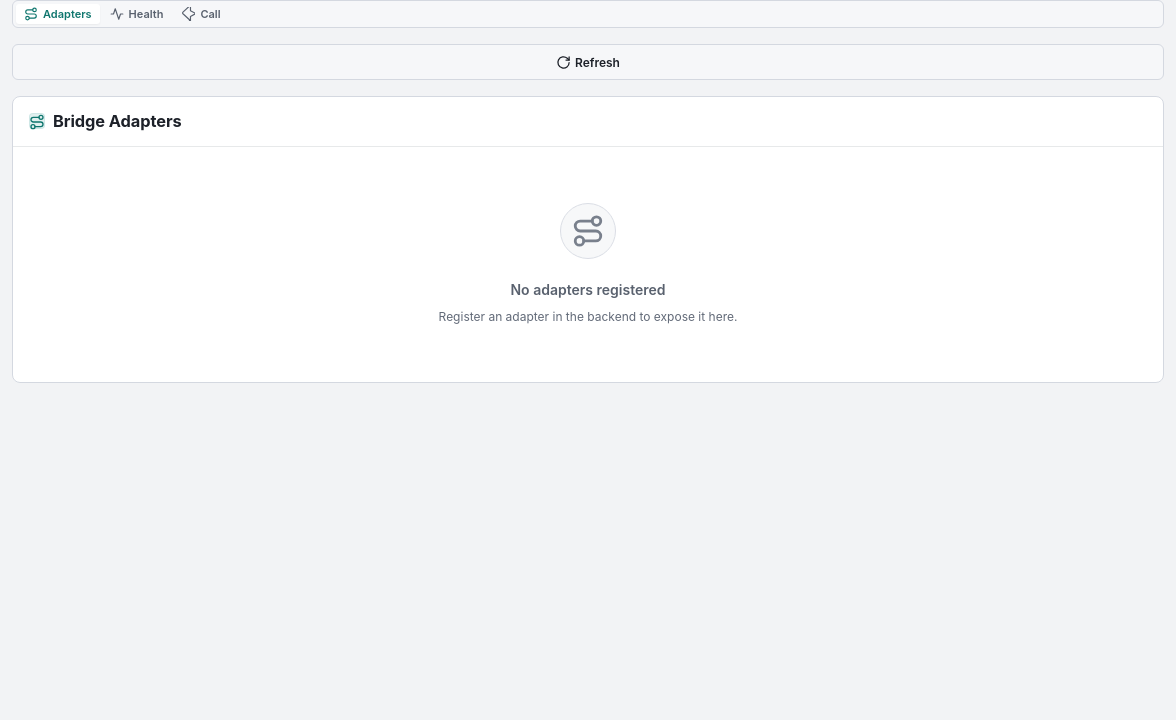
Scenario: AgentProxy.vue › renders health overview when health API returns data
Note: Switch to health tab
Click the radio button with class "segmented__item" showing "Health".
click(136, 14)  # box left=102, top=4, right=171, bottom=24
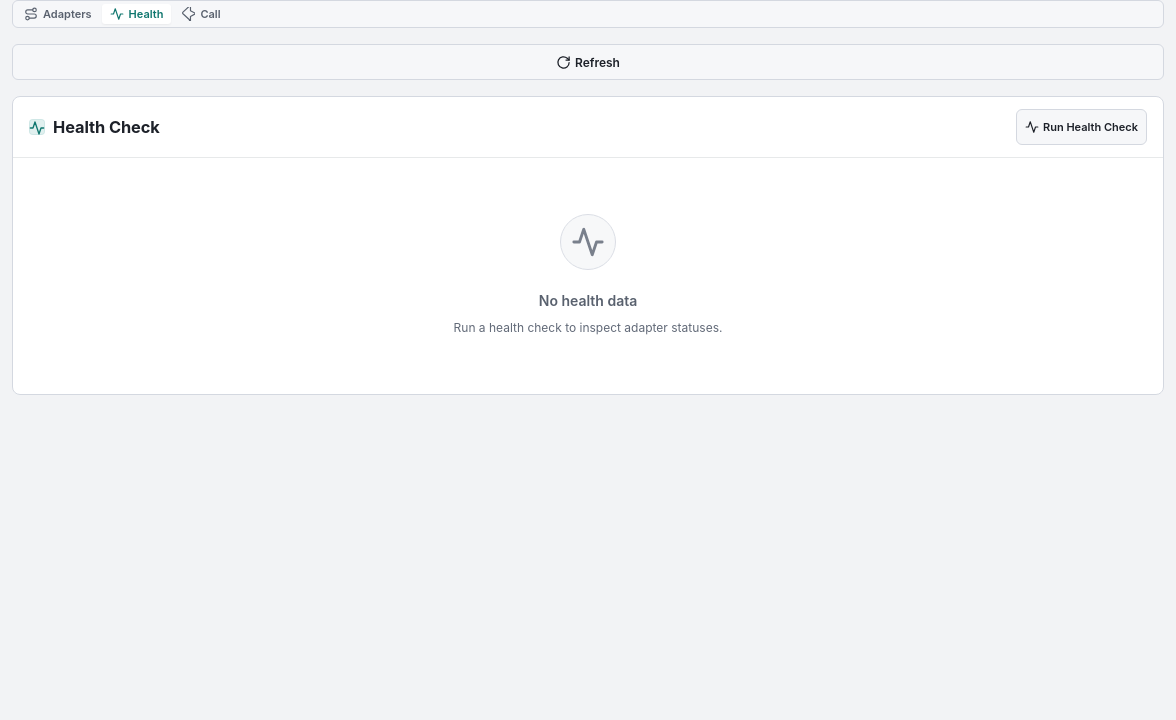
Result: the button "Run Health Check" is shown
Click the button "Run Health Check".
click(1082, 127)  # box left=1016, top=109, right=1147, bottom=145
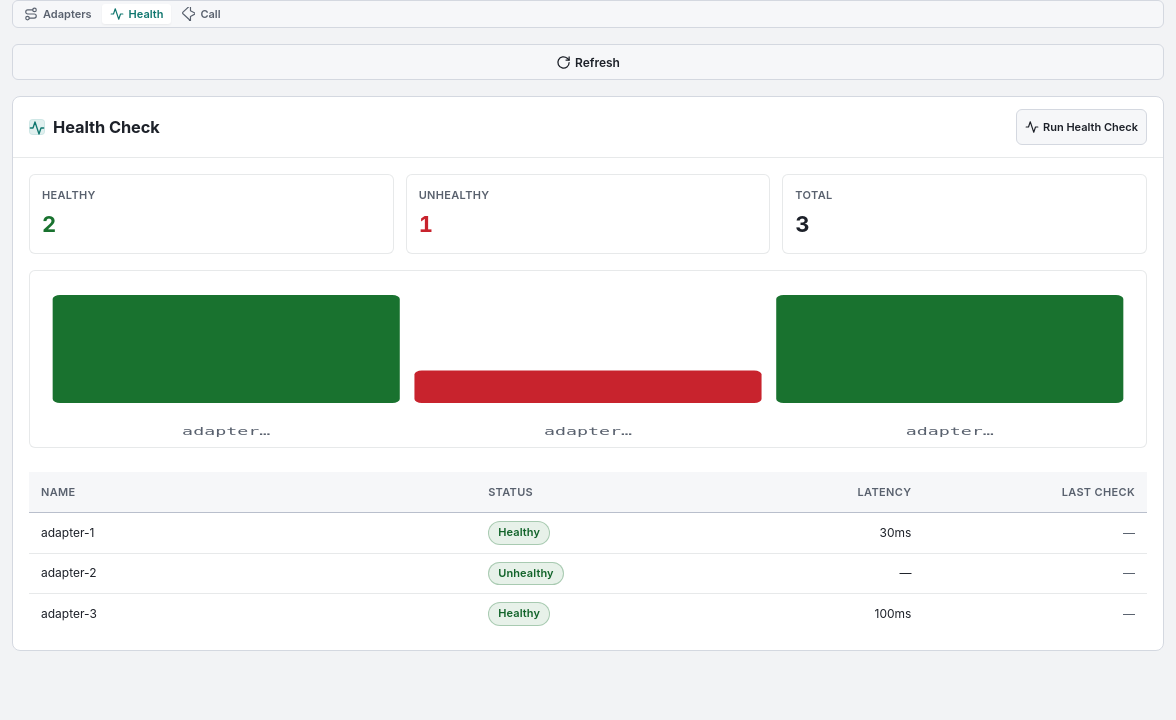
Result: the element with class "health-overview" is shown at left=29, top=174, right=1147, bottom=254
Result: the text "2" is shown at left=42, top=210, right=56, bottom=236
Result: the text "1" is shown at left=419, top=210, right=433, bottom=236
